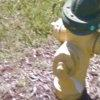Hydrant: (42, 1, 100, 96)
